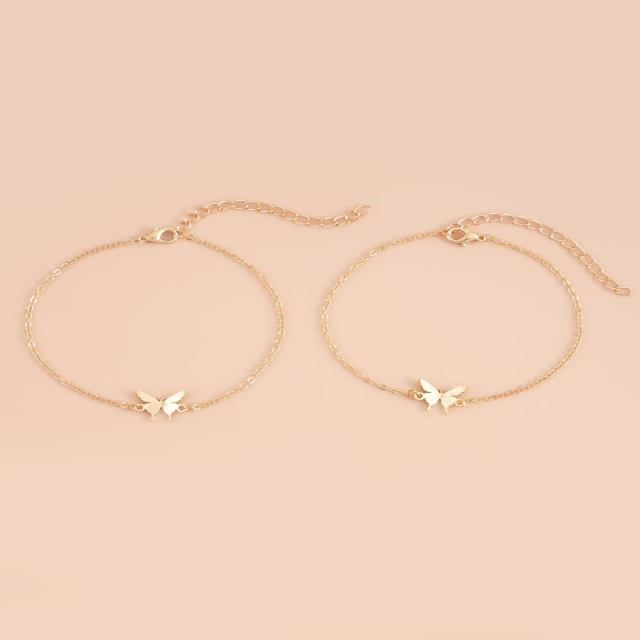bracelet: (0, 102, 309, 482), (315, 168, 640, 468)
